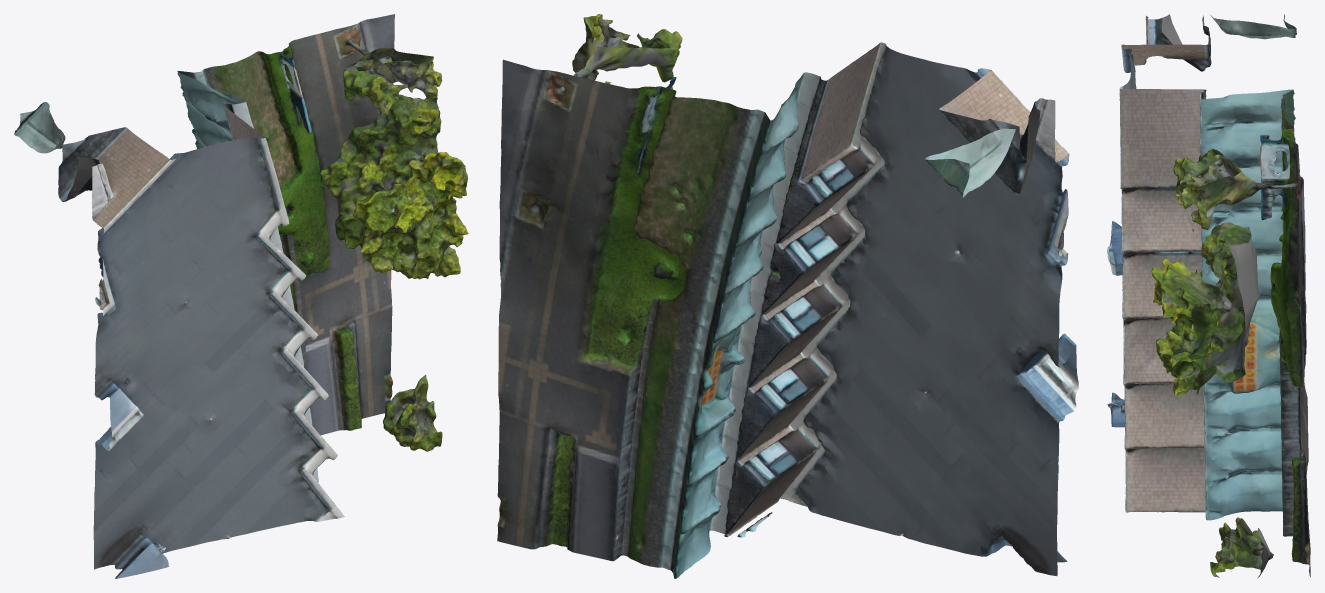
File: Tile_+015_+023.fbx
The picture shows the model from 3 angles, left to right: view 1: azimuth 30°, elevation 25°; view 2: azimuth 150°, elevation 25°; view 3: azimuth 270°, elevation 25°; orthographic projection. The views are drawn at different scales.
Parts seen in each view (by area): view 1: DefaultName; view 2: DefaultName; view 3: DefaultName.
Boxes of the visible parts, left/top/right/bottom form: DefaultName: left=14, top=14, right=468, bottom=578; DefaultName: left=497, top=14, right=1078, bottom=578; DefaultName: left=1107, top=14, right=1310, bottom=578.
Bounding box in the file's own units: 22.54 × 22.54 × 10.79.
